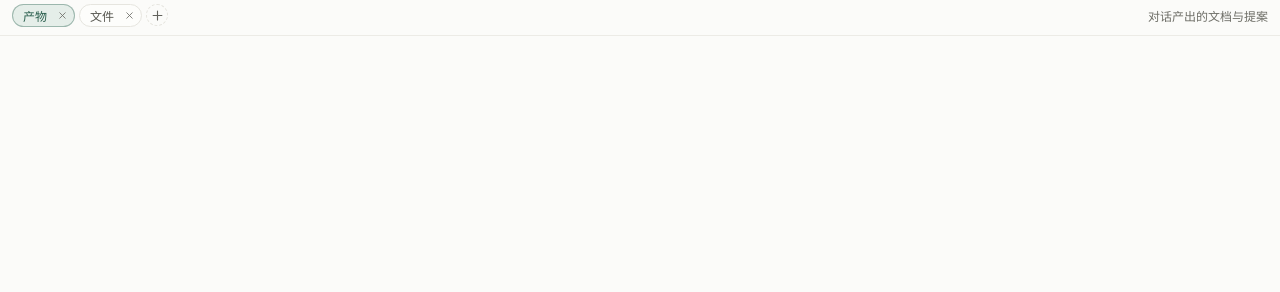
Test: WorkspaceViewTabs「+」菜单（回归：被裁剪） › 选择菜单项后回调并关闭
Click the button named "新建视图" at (157,15), box [146,4,168,26]
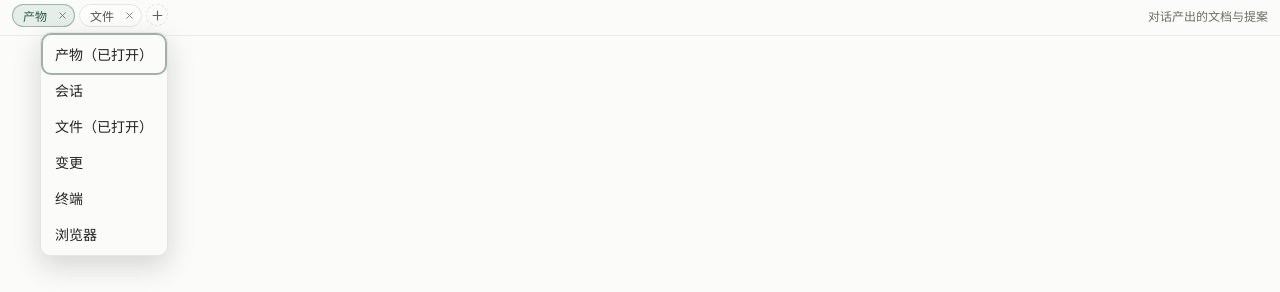
Click the menu item "终端" at (104,198), box [45,181,163,215]
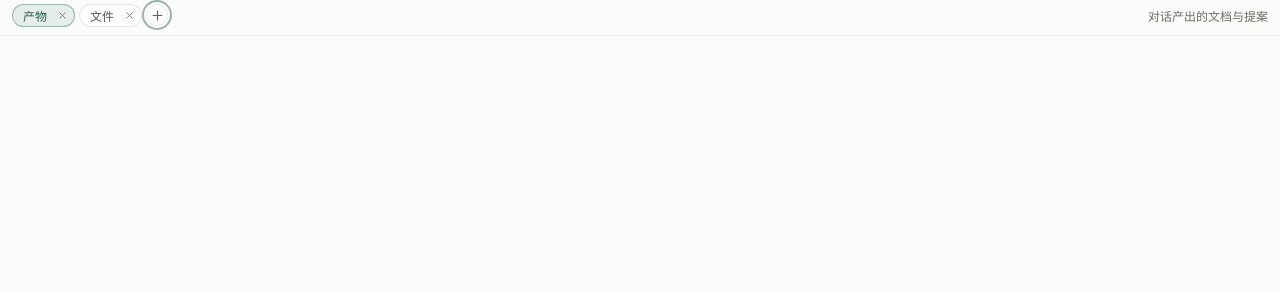
Now the menu with class "row-menu-pop" is gone
